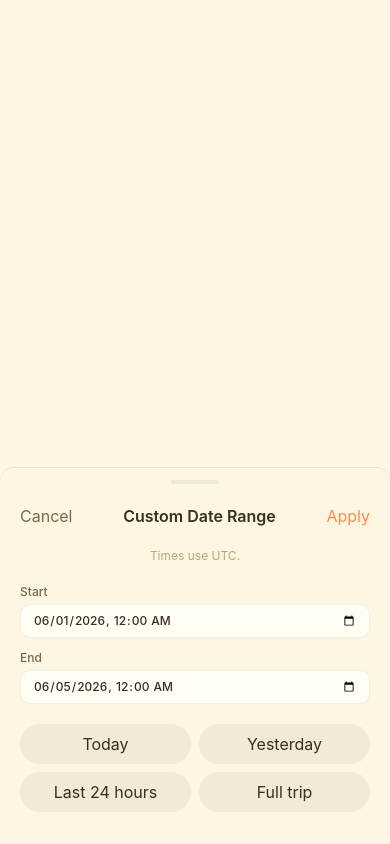
Test: ReplayDateRangeSheet › rejects an end before the start
Replace the text in the field labelled "Start" with "2026-06-04T00:00" at [195, 621], box [20, 604, 370, 638]
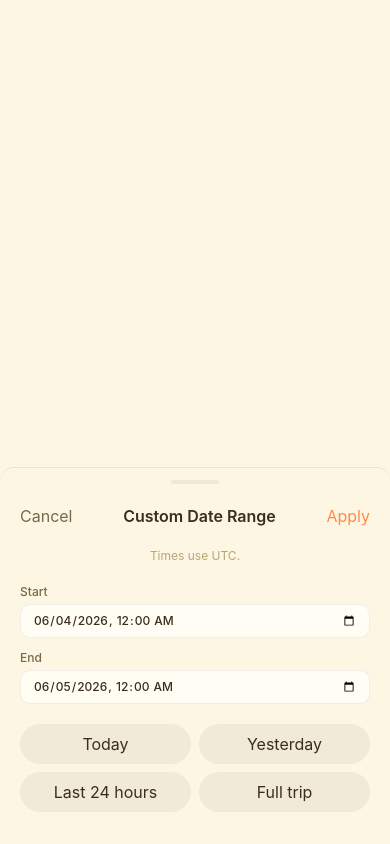
Replace the text in the field labelled "End" with "2026-06-03T00:00" at [195, 687], box [20, 670, 370, 704]
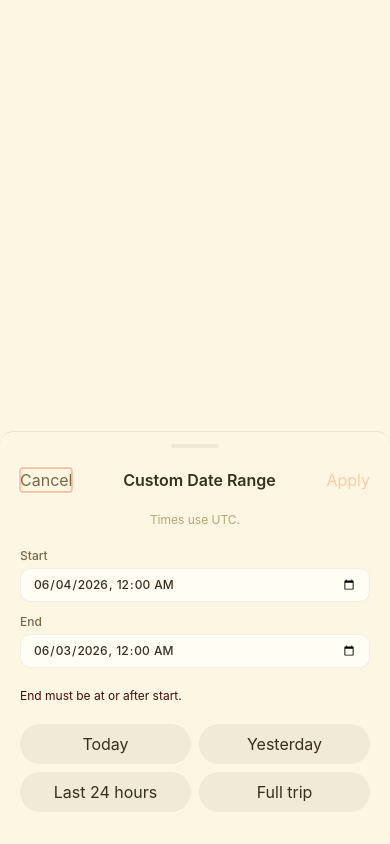
Now the message shows "End must be at or after start", box [20, 688, 182, 703]
Now the button "Apply" is disabled, box [326, 468, 370, 492]
